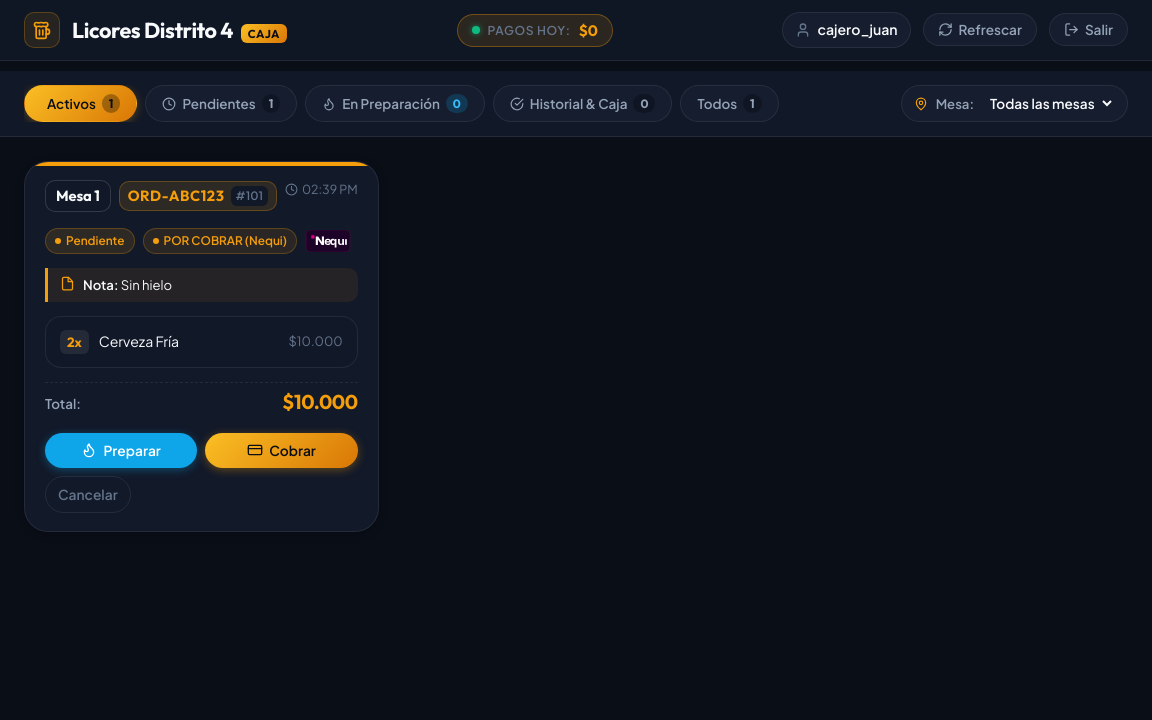
Scenario: OpsDashboardView Component › handles 409 conflict gracefully and shows conflict alert
Click the button with class "btn-prepare": point(121, 450) 45,433 -> 197,468
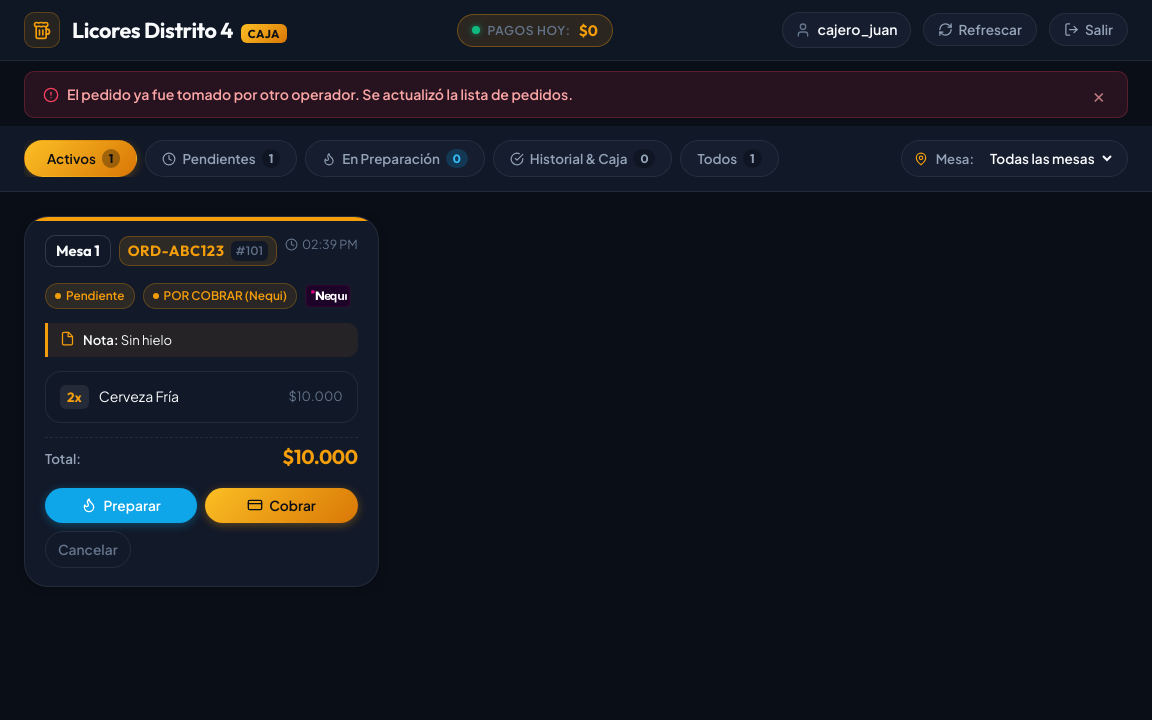
Expected: the message "El pedido ya fue tomado por otro operador. Se actualizó la lista de pedidos. ×" is shown, 24,71 -> 1128,118
Expected: the text "El pedido ya fue tomado por otro operador" is shown, 67,85 -> 573,103
